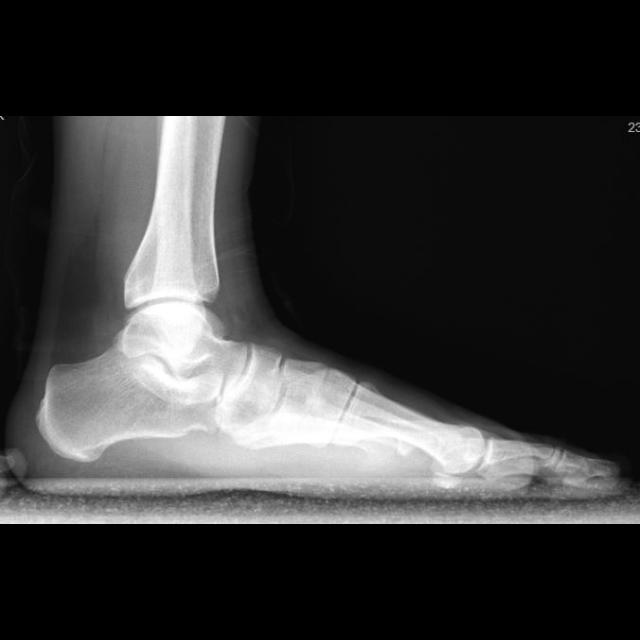a: (34, 348, 220, 464)
b: (225, 342, 284, 424)
c: (332, 383, 485, 478)
